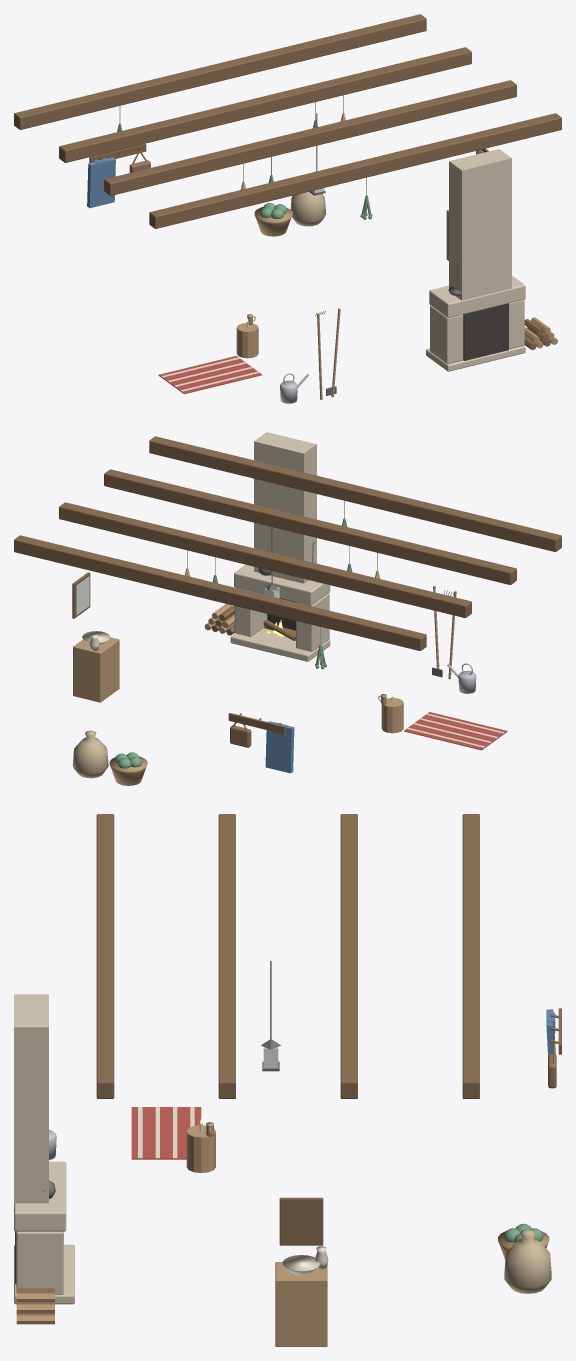
The model's file is ale_room.glb.
3 views of the same model, one above another, from view 1: azimuth 30°, elevation 25°; view 2: azimuth 150°, elevation 25°; view 3: azimuth 270°, elevation 25° (orthographic). The views are drawn at different scales.
Visible parts, largest first — view 1: ale_room; view 2: ale_room; view 3: ale_room.
Boxes of the visible parts, <box> form: ale_room: <box>14,14,561,403</box>; ale_room: <box>14,432,561,785</box>; ale_room: <box>14,814,561,1346</box>.
Bounding box in the file's own units: 7.3 × 3.4 × 6.29.
